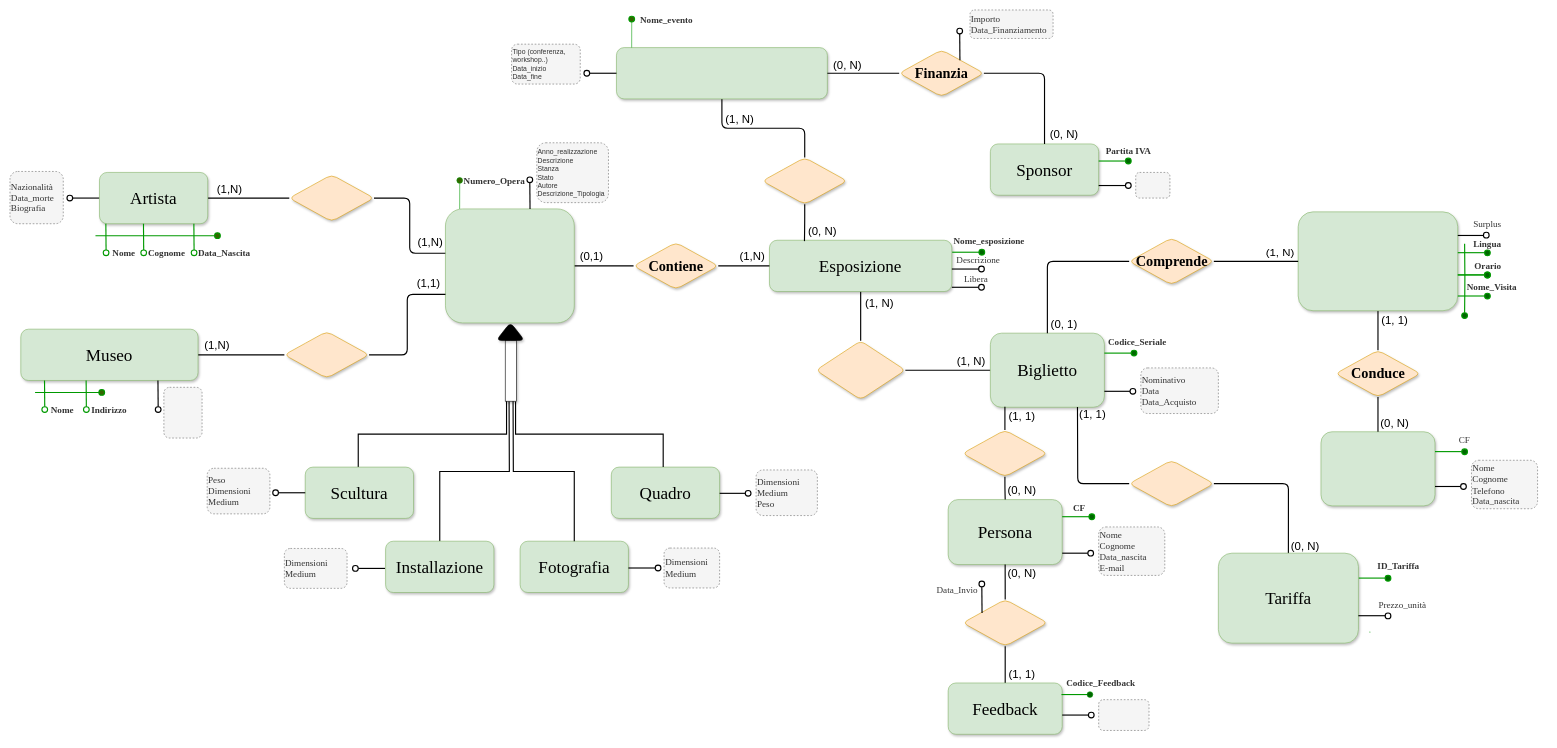
Some shapes in this 1557 by 748 pixel diagram are drawn without their labels. Here are the shapes that lost their labels. From the top down, the centre of each, then its label:
point 722,74: Evento
point 331,198: Realizza
point 805,181: Presenta
point 1152,185: Nome E-mail
point 510,266: Opera
point 1378,262: Visita_Guidata
point 327,355: Presta
point 861,371: Da accesso a
point 182,412: Telefono E-mail Città
point 1005,454: Acquista
point 1378,469: Guida
point 1171,484: Include
point 1005,623: Scrive
point 1123,714: Valutazione Commento
